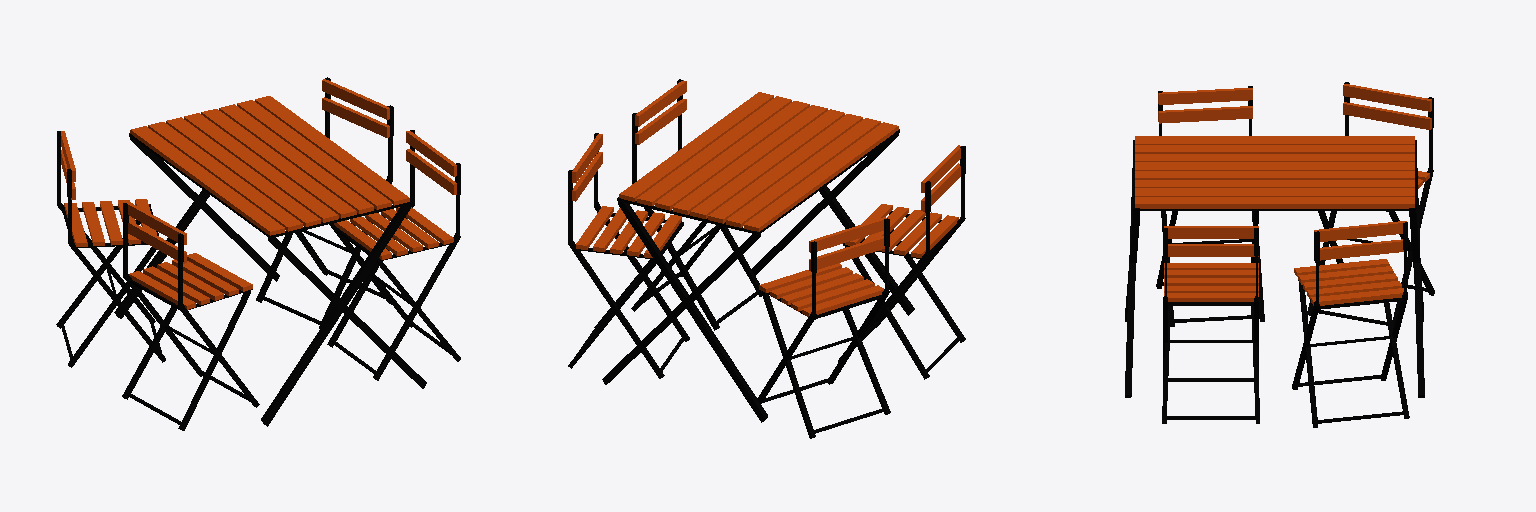
File: table.obj
The picture shows the model from 3 angles: view 1: azimuth 30°, elevation 25°; view 2: azimuth 150°, elevation 25°; view 3: azimuth 270°, elevation 25°; orthographic projection.
Parts seen in each view (by area): view 1: Table, Chair2, Chair1, Chair4, Chair3; view 2: Table, Chair4, Chair3, Chair2, Chair1; view 3: Table, Chair3, Chair1, Chair4, Chair2.
Boxes of the visible parts, box(x1,y1,x2,y2) form: Table: box(114, 96, 426, 426); Chair2: box(122, 202, 259, 430); Chair1: box(327, 130, 460, 380); Chair4: box(56, 131, 165, 367); Chair3: box(256, 77, 393, 328); Table: box(602, 92, 914, 422); Chair4: box(757, 217, 890, 438); Chair3: box(568, 133, 689, 378); Chair2: box(838, 145, 965, 379); Chair1: box(631, 79, 762, 330); Table: box(1125, 136, 1424, 397); Chair3: box(1292, 221, 1409, 427); Chair1: box(1162, 226, 1259, 423); Chair4: box(1307, 82, 1434, 325); Chair2: box(1156, 86, 1264, 326).
Bounding box in the file's own units: 1.81 × 1.1 × 1.57.